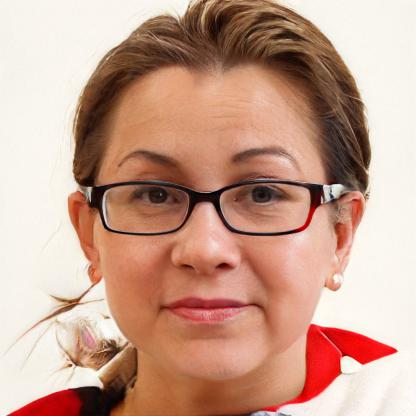glasses: (91, 176, 326, 240)
